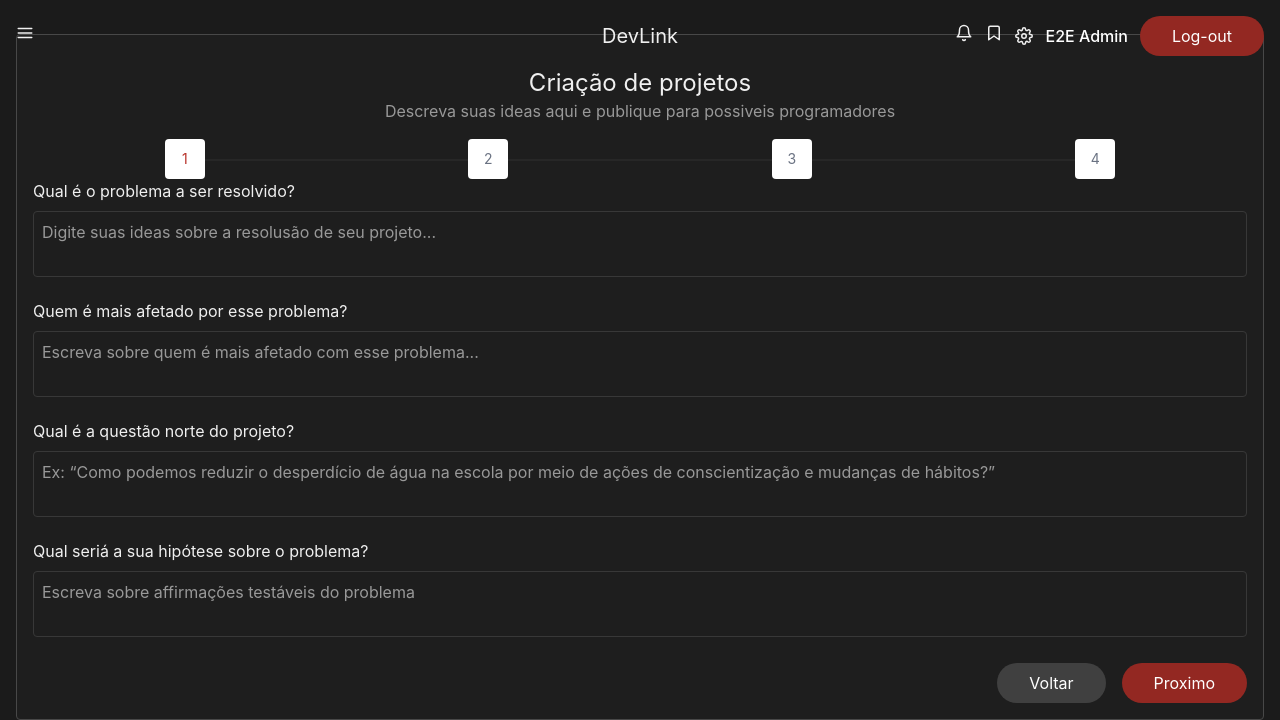
Scenario: Teste do questionario de criação de projetos › Teste de estado de falha: nao avanca com campos obrigatorios vazios
The width and height of the screenshot is (1280, 720).
(page scrolled)
Expected: the text box named "problem" is shown, x1=33 y1=211 x2=1247 y2=277
Click the button with test id "questionnaire-next" at point(1185, 683), box x1=1122 y1=663 x2=1247 y2=703
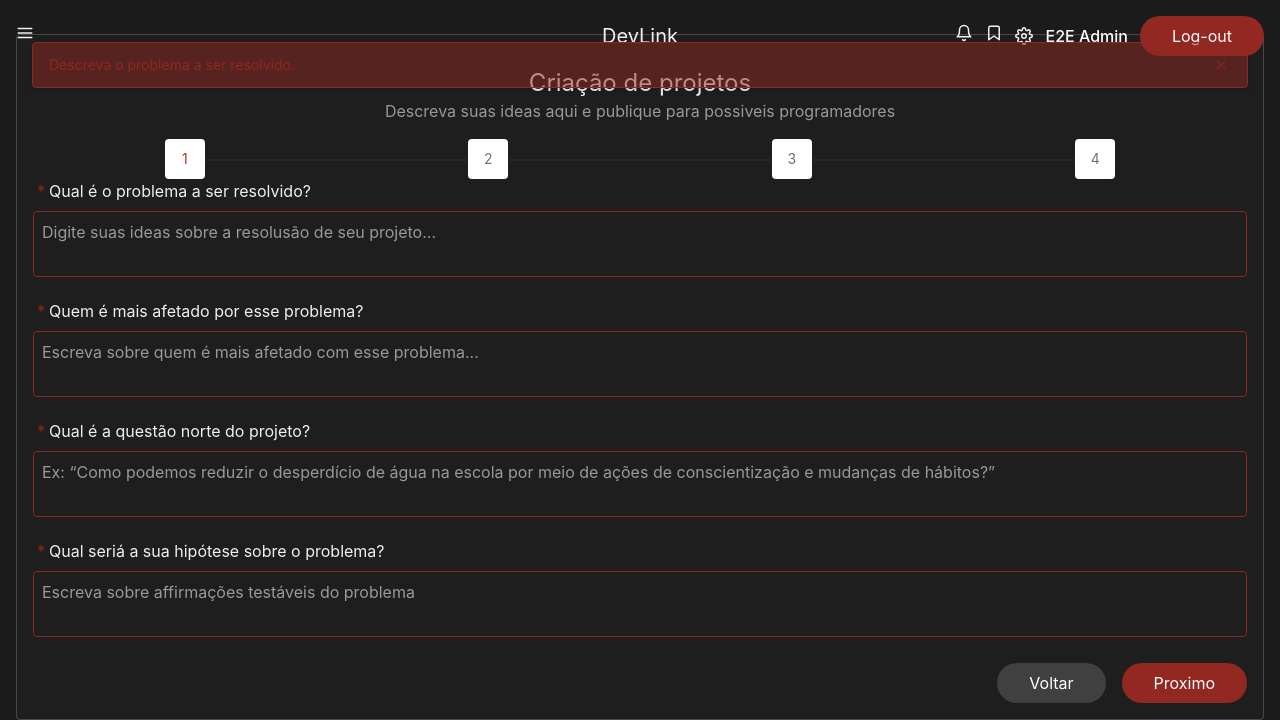
Expected: the text box named "problem" is shown, x1=33 y1=211 x2=1247 y2=277
Expected: the message "Descreva o problema a ser resolvido." is shown, x1=32 y1=42 x2=1248 y2=88
